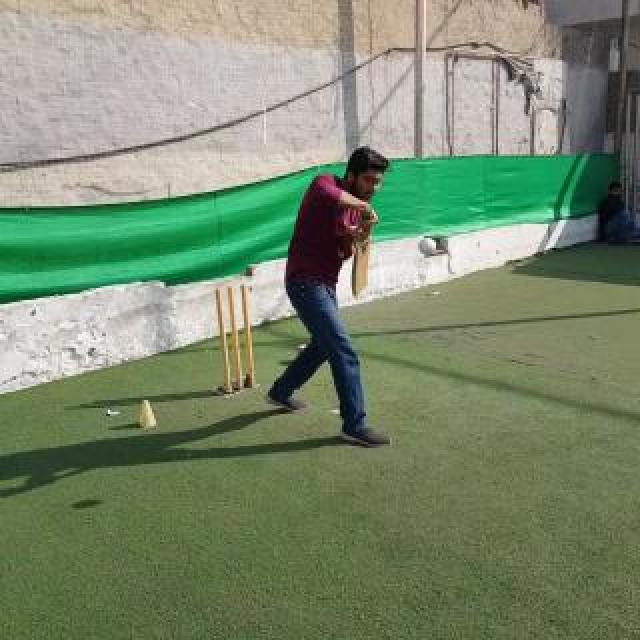ball: (418, 238, 436, 254)
bat: (352, 206, 372, 298)
